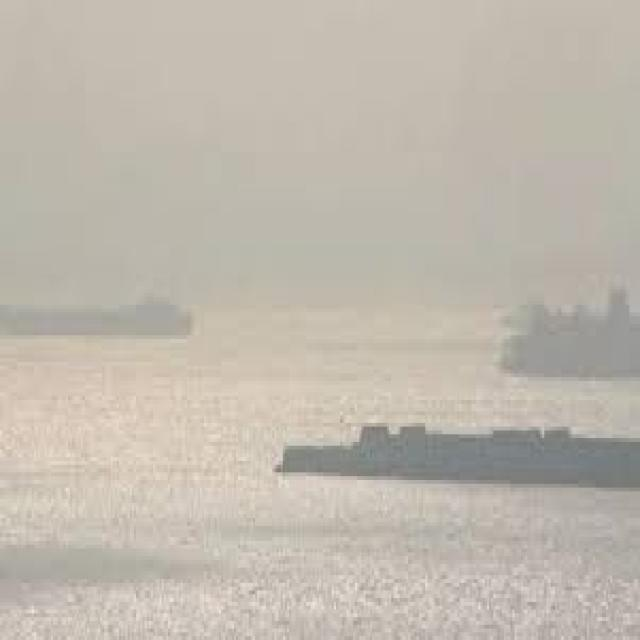cargoship: (277, 398, 640, 498), (500, 289, 640, 373), (0, 286, 196, 341)
